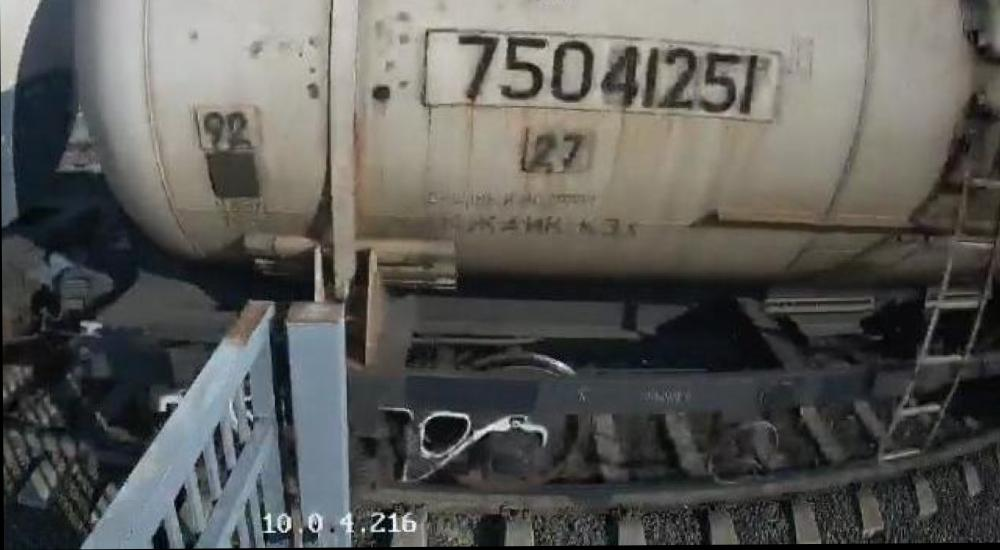Wagon-number: (450, 30, 763, 121)
